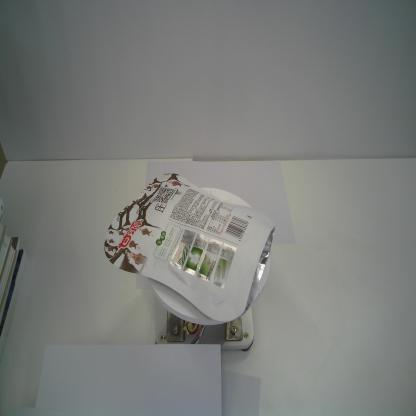Dried Fruit: (102, 172, 276, 324)
